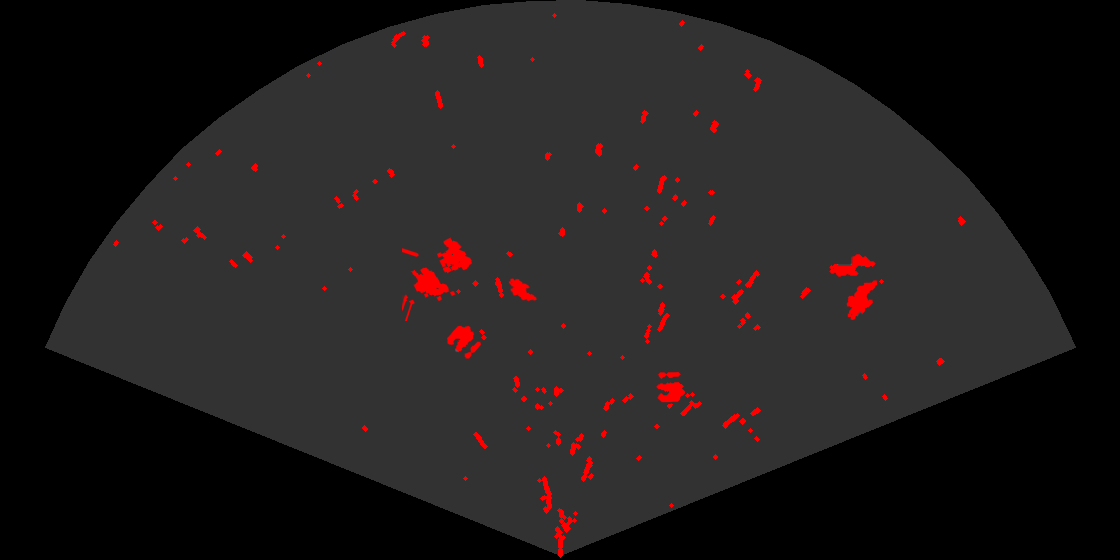AUV: (845, 279, 879, 322), (828, 253, 877, 278), (507, 277, 538, 303)
ball: (445, 324, 483, 360), (655, 370, 687, 404)
cage: (402, 236, 474, 321)
